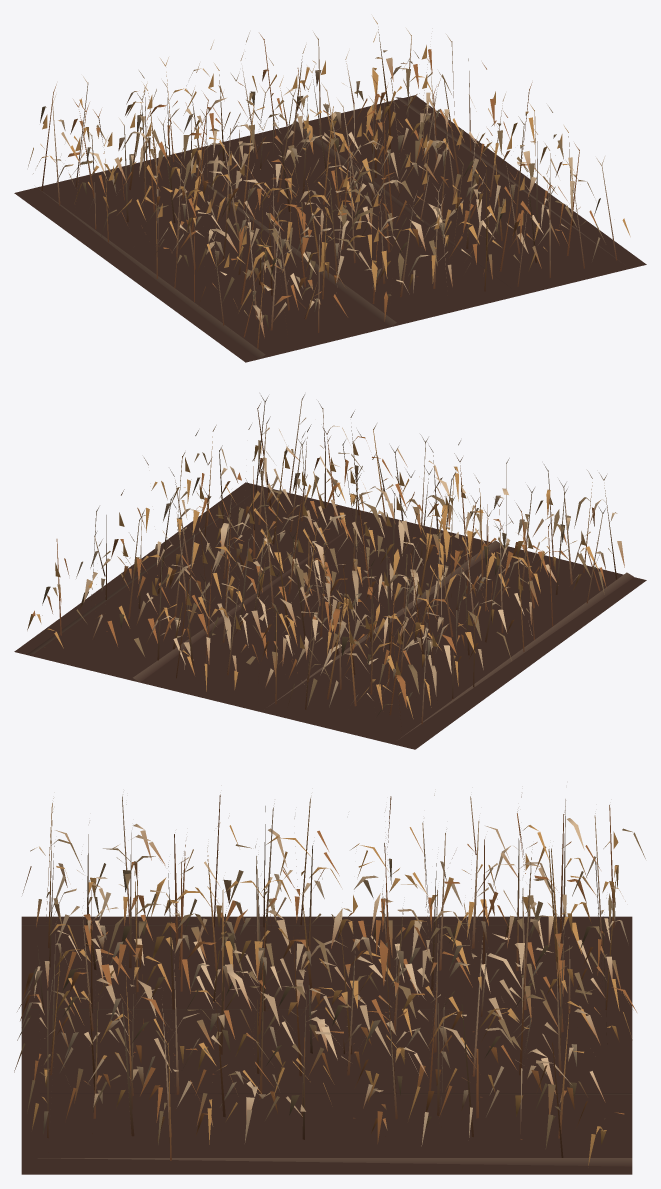
3 renders of one model, top to bottom at view 1: azimuth 30°, elevation 25°; view 2: azimuth 150°, elevation 25°; view 3: azimuth 270°, elevation 25°, orthographic. The views are drawn at different scales.
Parts seen in each view (by area): view 1: body; view 2: body; view 3: body.
Part boxes in pixels (left/top/right/bottom): body: left=14, top=17, right=646, bottom=362; body: left=14, top=394, right=646, bottom=749; body: left=14, top=794, right=645, bottom=1174.
Size of the model in its own units: 10.27 by 2.79 by 10.37.
